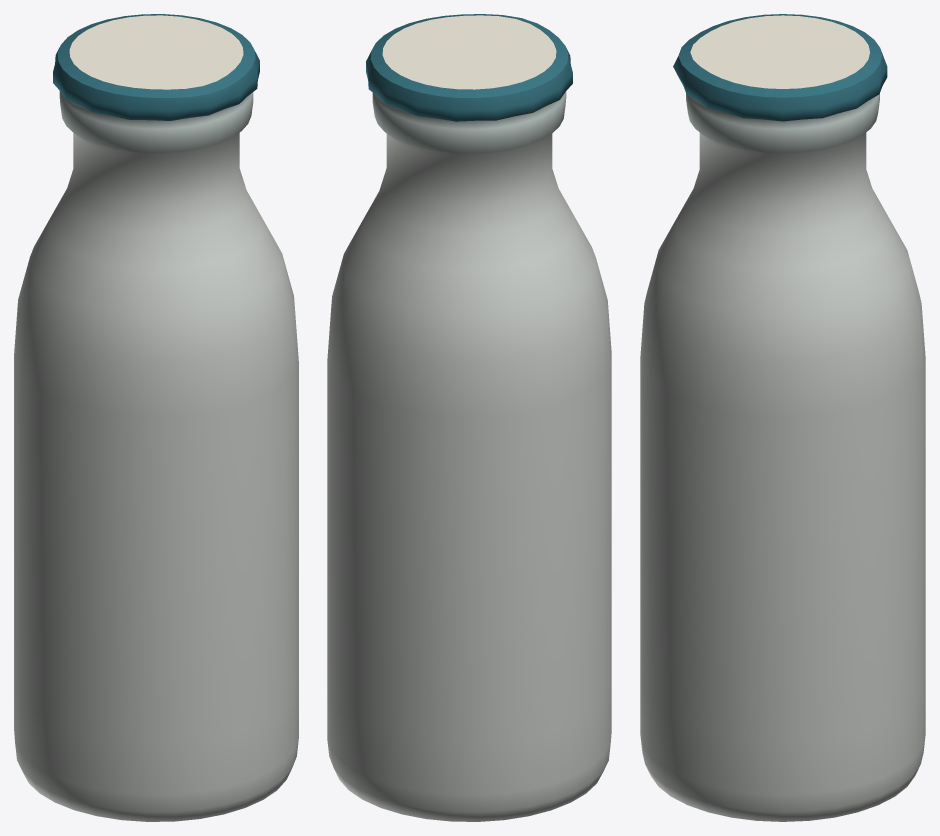
File: milk_bottle.glb
The picture shows the model from 3 angles, left to right: view 1: azimuth 30°, elevation 25°; view 2: azimuth 150°, elevation 25°; view 3: azimuth 270°, elevation 25°; orthographic projection.
Parts seen in each view (by area): view 1: milk_bottle; view 2: milk_bottle; view 3: milk_bottle.
Boxes of the visible parts, x1=… form: milk_bottle: x1=14, y1=14, x2=298, y2=821; milk_bottle: x1=327, y1=14, x2=611, y2=821; milk_bottle: x1=640, y1=14, x2=925, y2=821.
Size of the model in its own units: 0.072 by 0.2 by 0.072.
